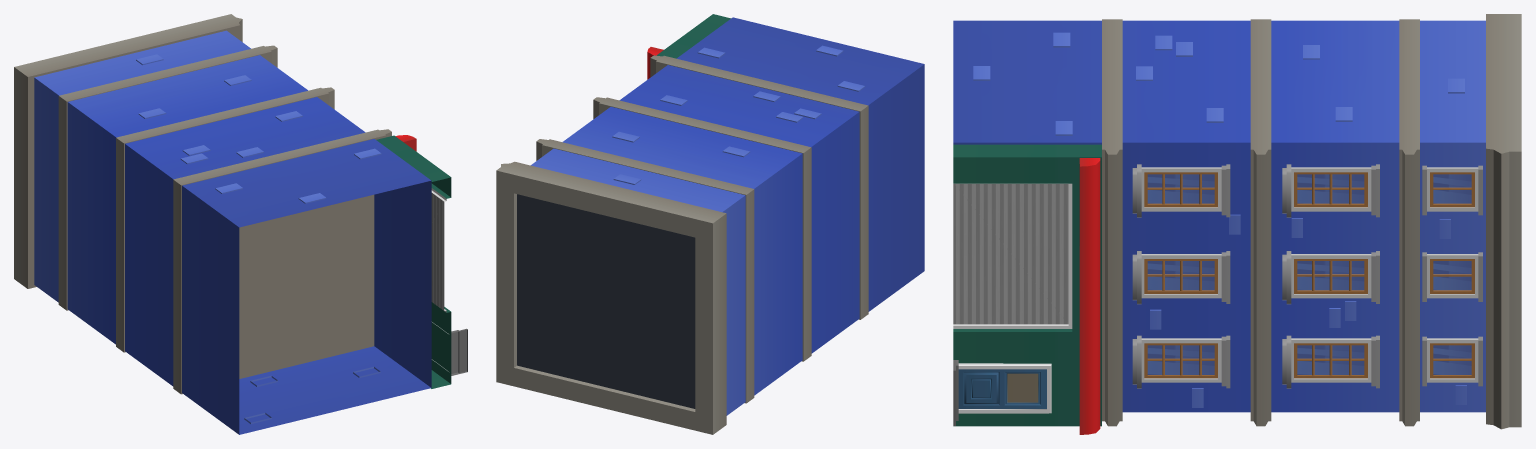
The model's file is Building_19_1_D.glb.
The picture shows the model from 3 angles, left to right: view 1: azimuth 30°, elevation 25°; view 2: azimuth 150°, elevation 25°; view 3: azimuth 270°, elevation 25°; orthographic projection. The views are drawn at different scales.
Parts seen in each view (by area): view 1: Building_19_1_D; view 2: Building_19_1_D; view 3: Building_19_1_D.
Part boxes in pixels (<box>): Building_19_1_D: <box>14,14,467,434</box>; Building_19_1_D: <box>496,14,924,434</box>; Building_19_1_D: <box>953,14,1521,434</box>.
Size of the model in its own units: 7.74 by 6.67 by 12.47.
Materials: 3 (3 with a texture image).
